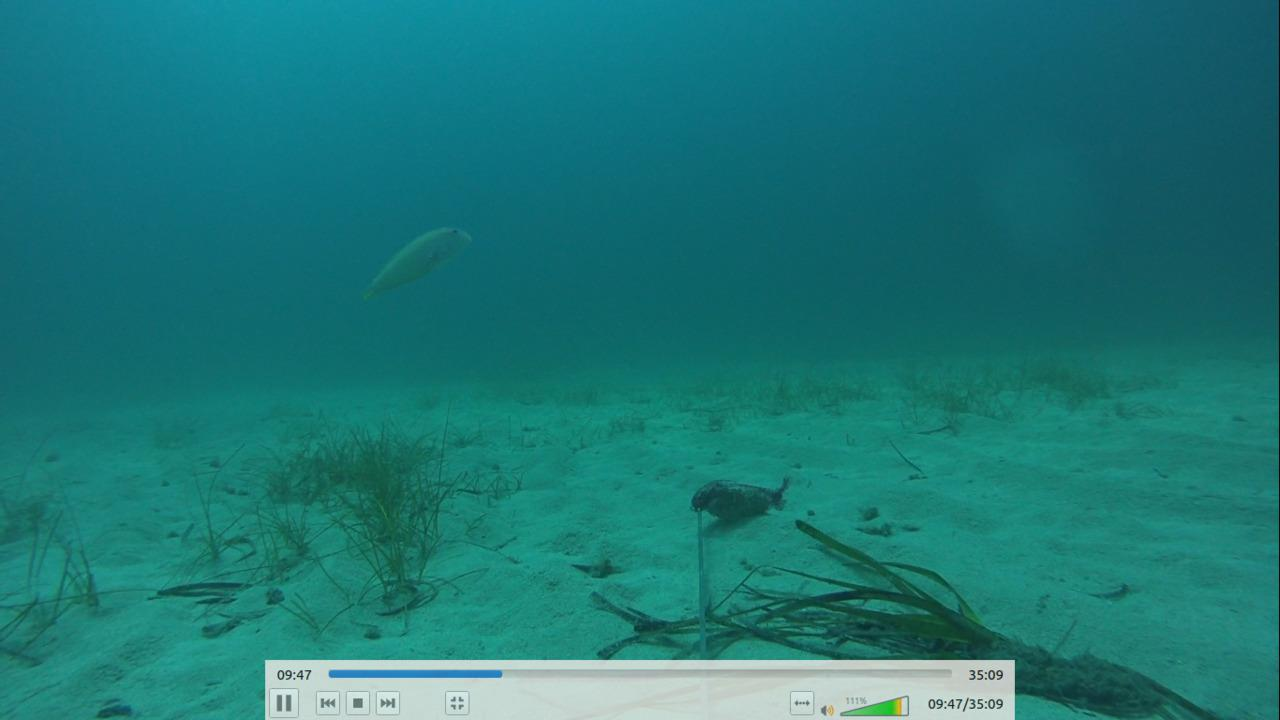raor: (351, 219, 475, 299)
